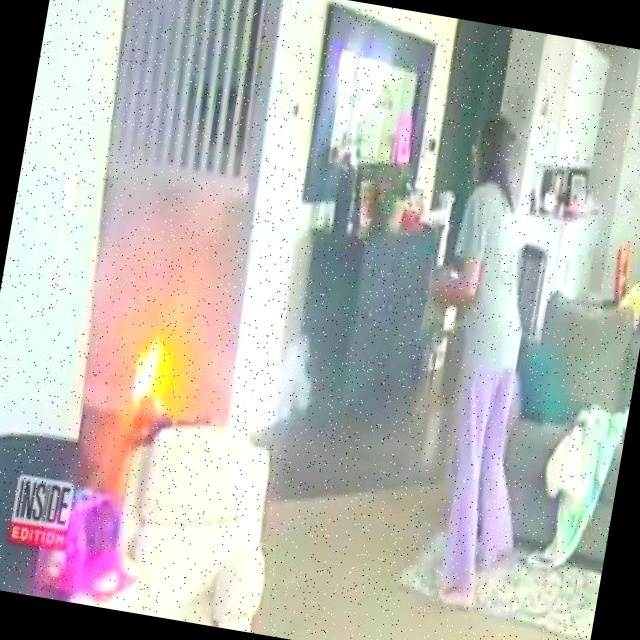fire: (83, 313, 214, 458)
